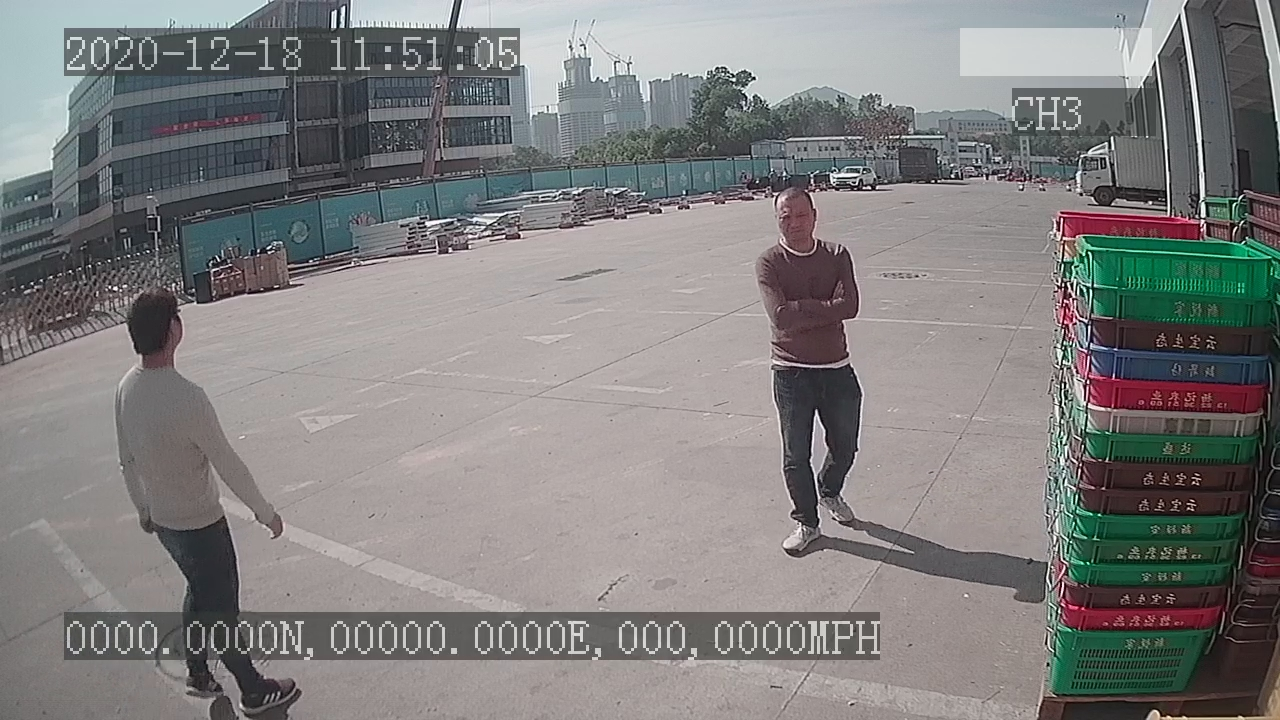person: (747, 179, 870, 560)
